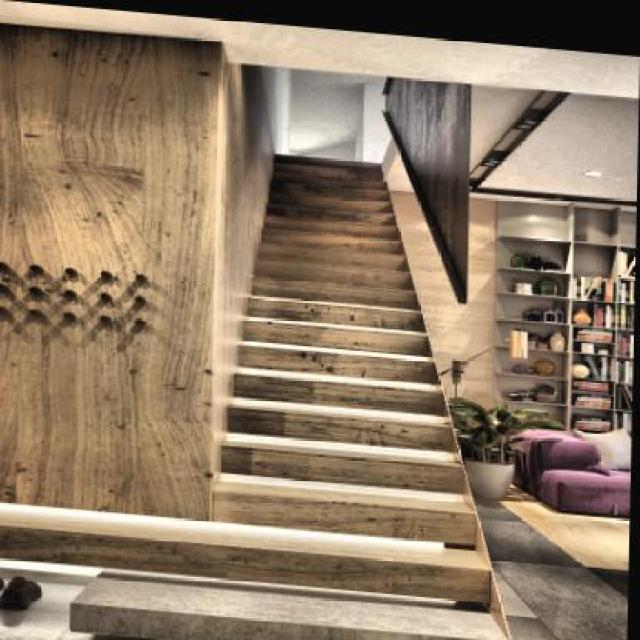stair: (91, 123, 529, 639)
